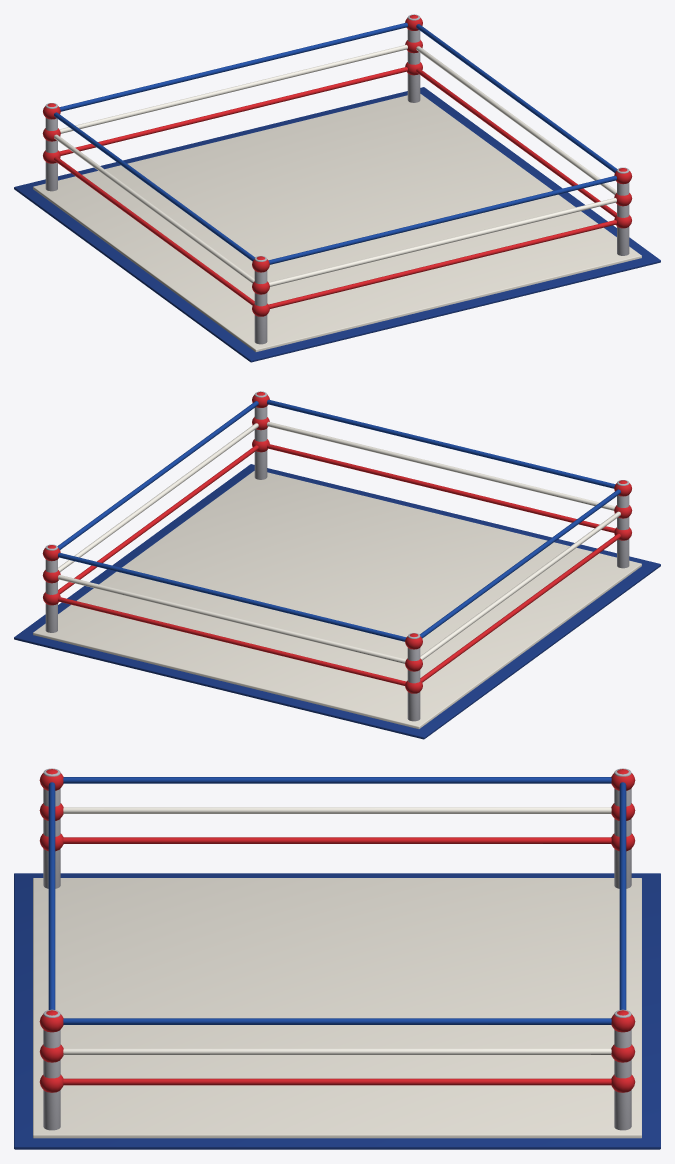
Rendered from ring.glb.
The picture shows the model from 3 angles, top to bottom: view 1: azimuth 30°, elevation 25°; view 2: azimuth 150°, elevation 25°; view 3: azimuth 270°, elevation 25°; orthographic projection. The views are drawn at different scales.
Visible parts, largest first — view 1: ring; view 2: ring; view 3: ring.
Boxes of the visible parts, left/top/right/bottom form: ring: left=14, top=14, right=660, bottom=362; ring: left=14, top=391, right=660, bottom=739; ring: left=14, top=768, right=660, bottom=1149.
Size of the model in its own units: 6.8 by 1.42 by 6.8.
